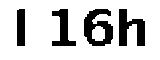1: (43, 5, 78, 50)
6: (82, 5, 114, 50)
h: (117, 6, 151, 52)
l: (12, 6, 34, 48)
